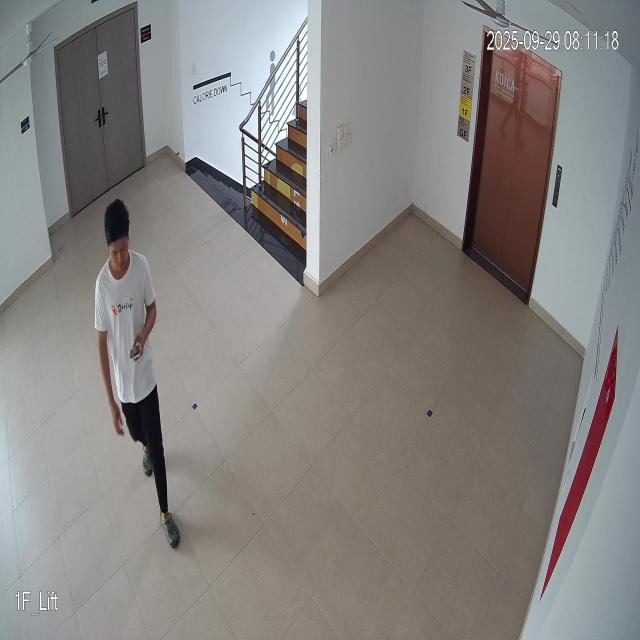face: (102, 200, 134, 282)
